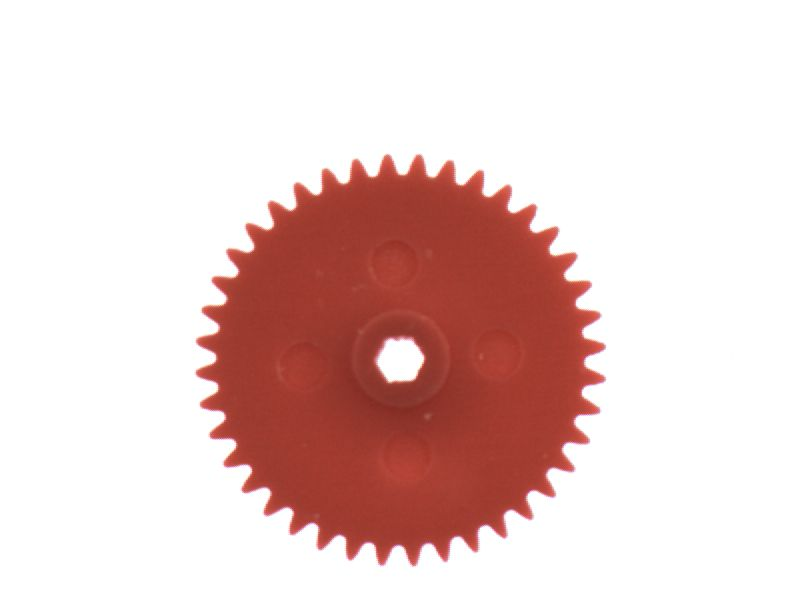good_product: (187, 143, 618, 577)
